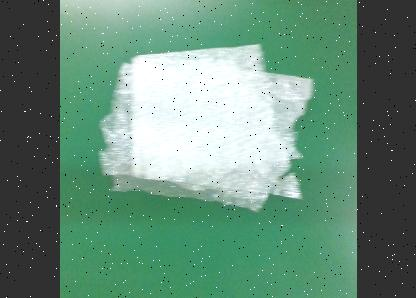Others: (95, 41, 318, 211)
